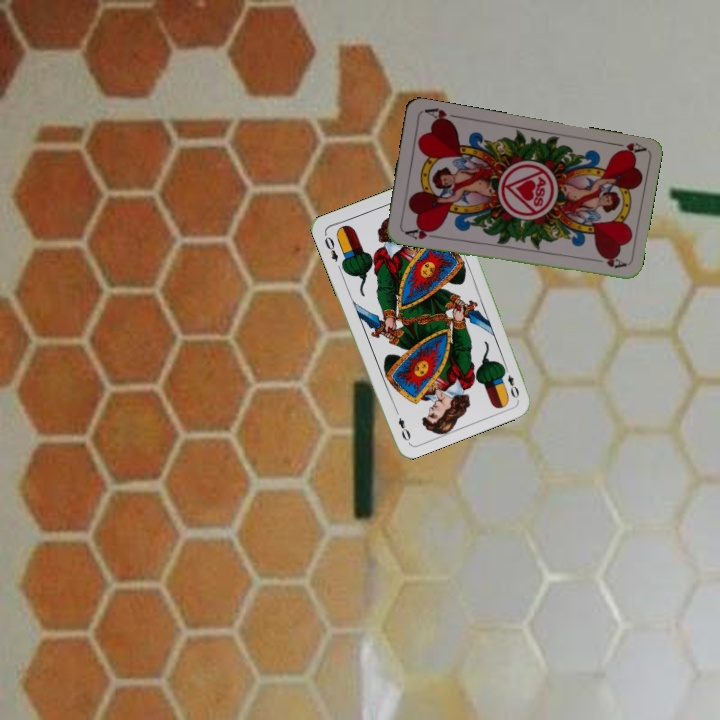EO: (499, 362, 522, 401), (320, 232, 341, 264)
HA: (606, 138, 647, 158), (401, 223, 440, 242)
